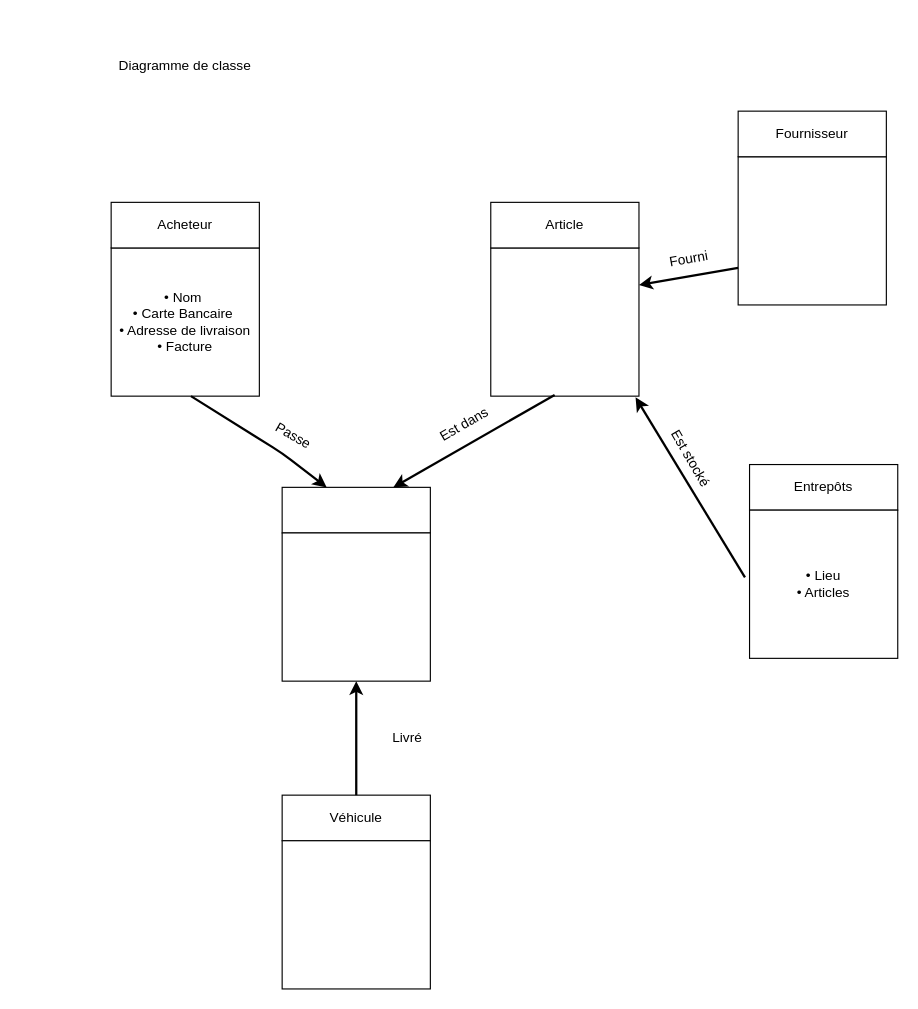
This 918x1009 diagram has some shape labels left out. Here are the shapes that lost their labels. From the top down, the centre of each, then its label:
point (564, 321): • Quantité • Prix
point (355, 509): Commande
point (355, 606): • Date • Numéro • Prix Total • Adresse de livraison
point (355, 914): • Chauffeur • Nombre de colis à l'intérieur
